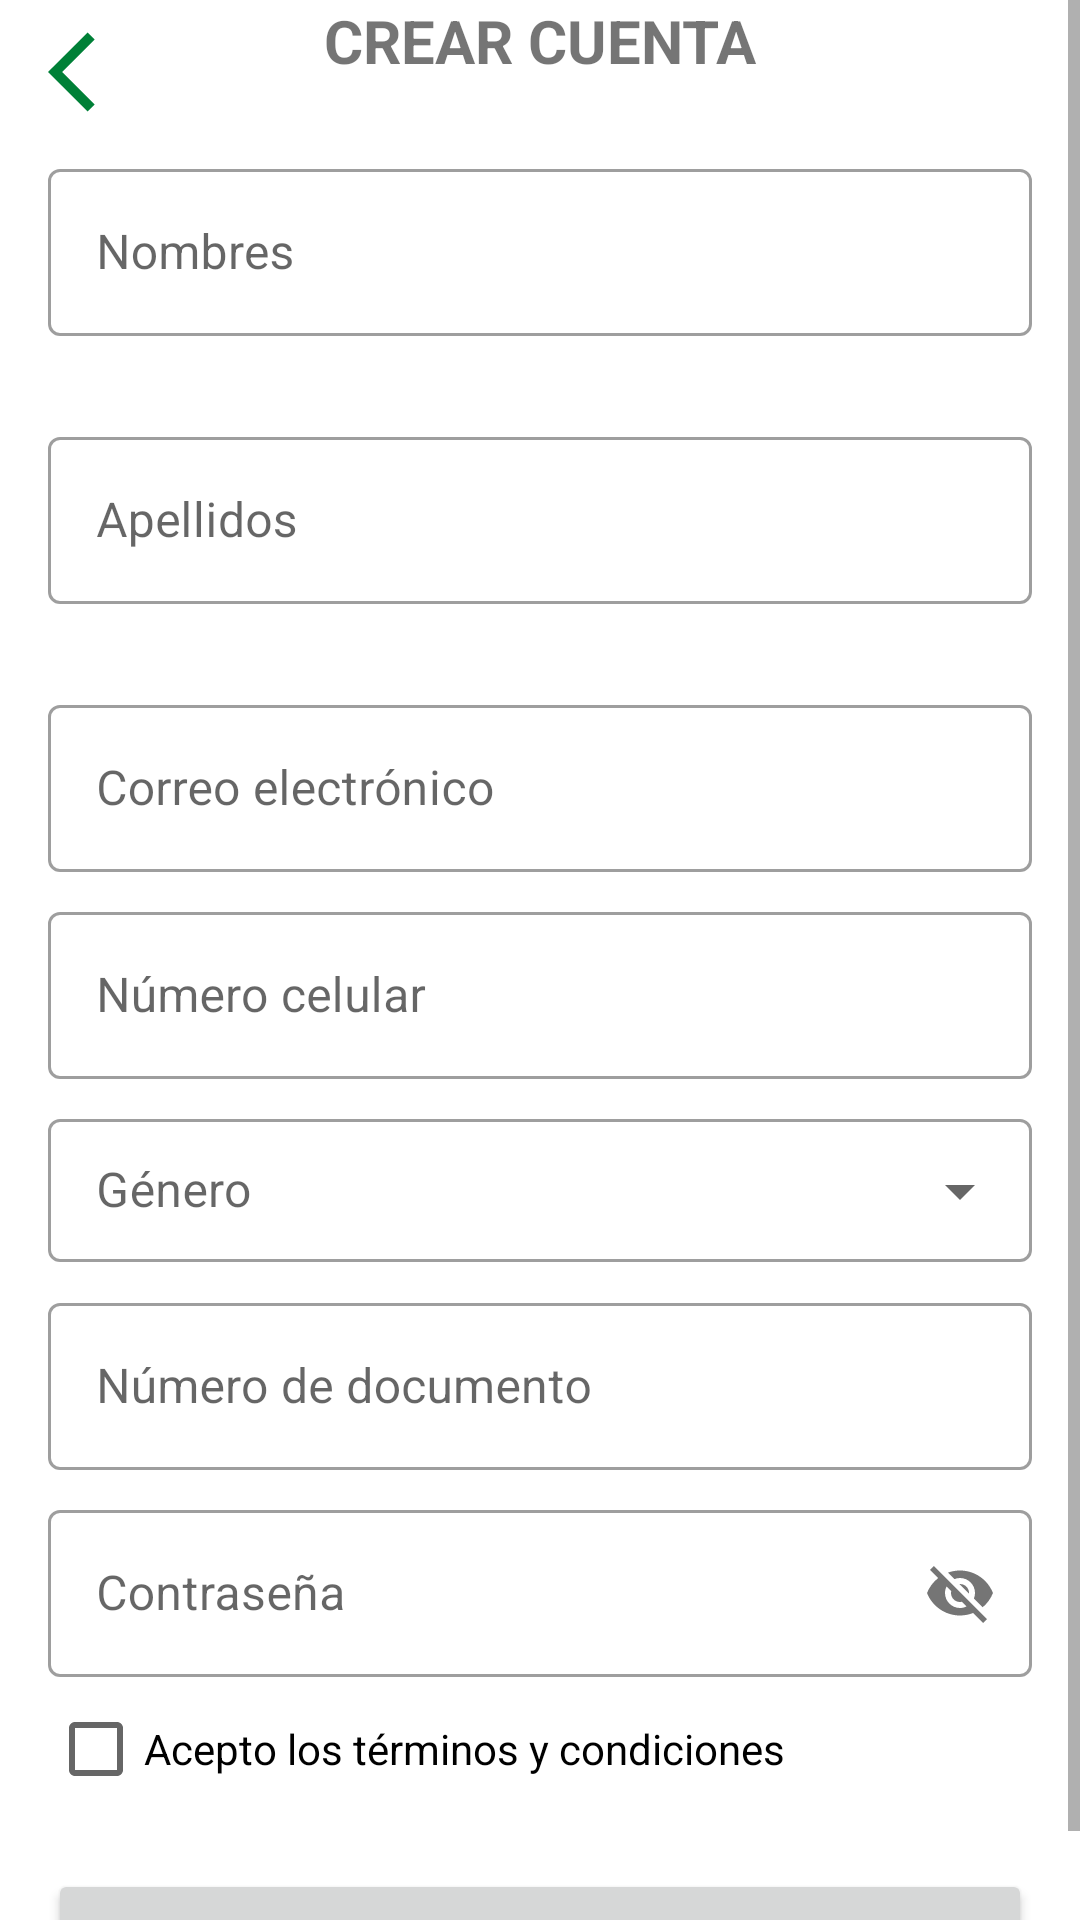

Screen size 1080px×1920px. Icon name, then its center in pixels as (x,y):
back: (71,72)
